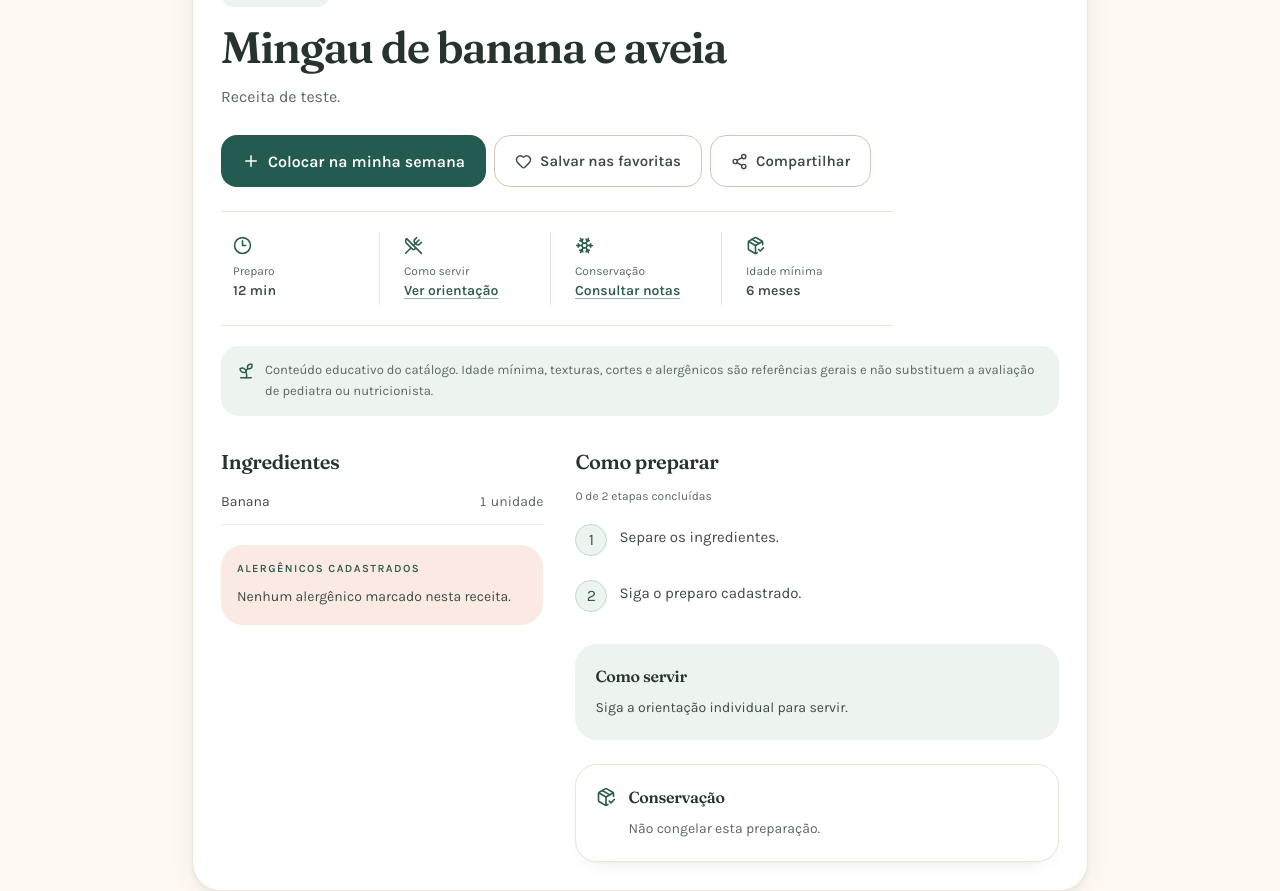
lets the cook check and restart steps without changing their instructions
The width and height of the screenshot is (1280, 891).
(page scrolled)
What coordinates should you click on to do the following:
click the button with aria-label "Etapa 1: Separe os ingredientes."
I would click on:
 (591, 540)
Its box is [575,516,1059,564].
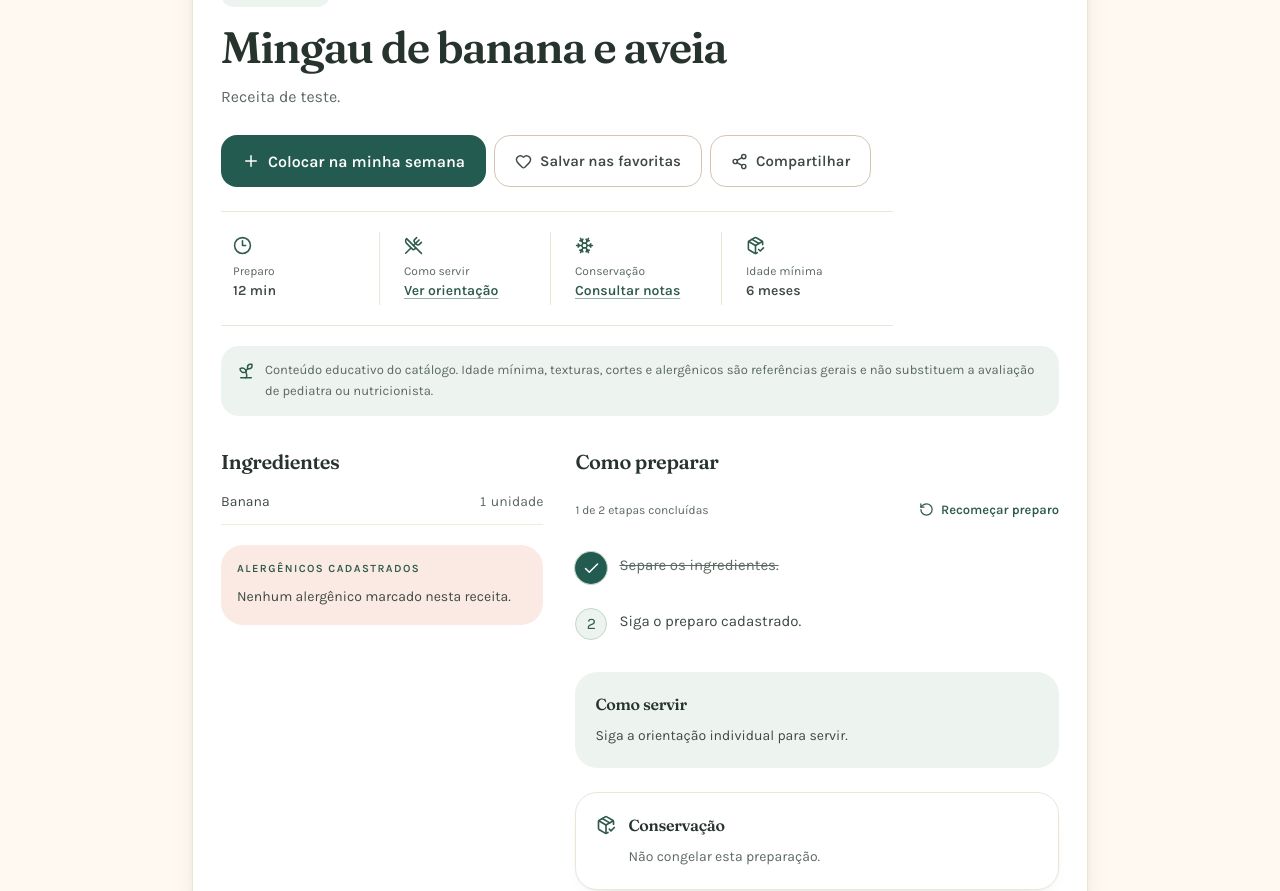
Check: the message reads "1 de 2 etapas concluídas", box [575,502,709,518]
What coordinates should you click on to do the following:
click the button "Recomeçar preparo"
I would click on:
 (989, 510)
Its box is [919,488,1059,532].
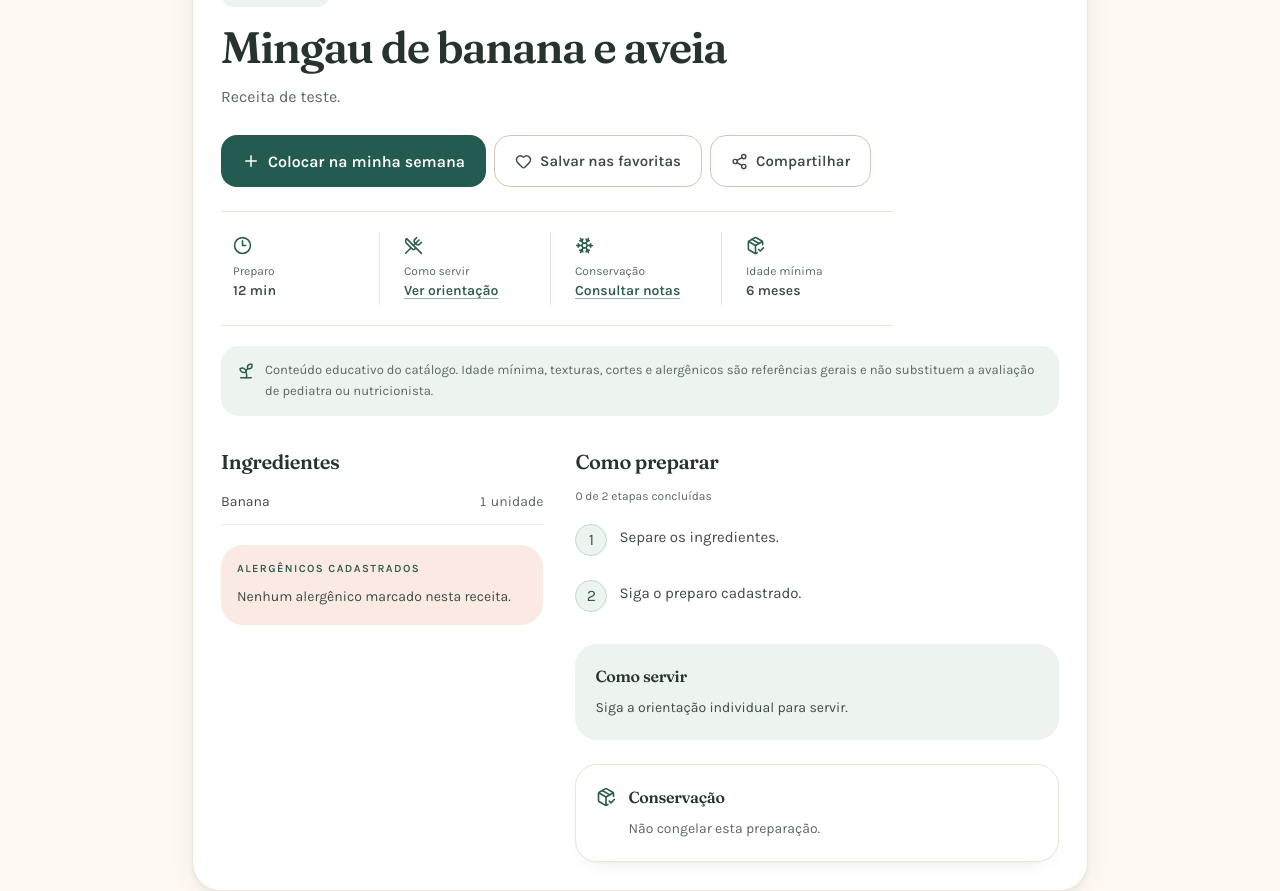
Check: the message reads "0 de 2 etapas concluídas", box [575,488,712,504]
